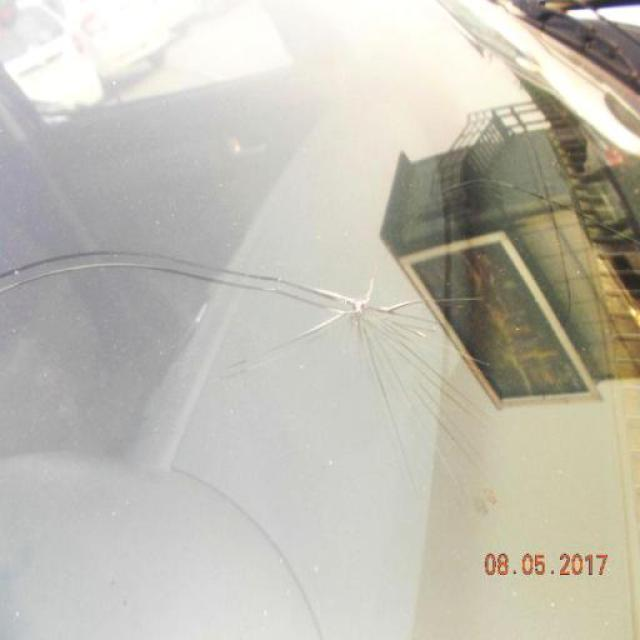Car-Damage: (300, 268, 475, 421)
